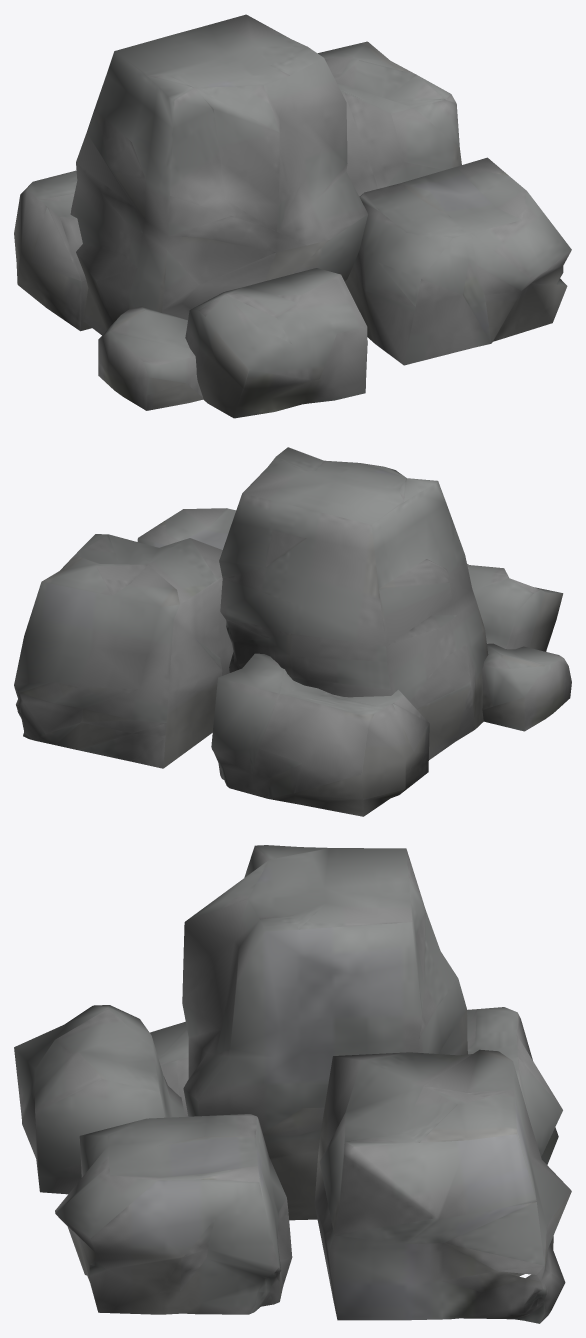
File: rock.glb
3 views of the same model, one above another, from view 1: azimuth 30°, elevation 25°; view 2: azimuth 150°, elevation 25°; view 3: azimuth 270°, elevation 25° (orthographic). The views are drawn at different scales.
Visible parts, largest first — view 1: tripo_node_0950d814-42a3-466a-9ab0-7947a6c004d4; view 2: tripo_node_0950d814-42a3-466a-9ab0-7947a6c004d4; view 3: tripo_node_0950d814-42a3-466a-9ab0-7947a6c004d4.
Part boxes in pixels (x1,y1,x2,y2): tripo_node_0950d814-42a3-466a-9ab0-7947a6c004d4: (14, 14, 571, 418); tripo_node_0950d814-42a3-466a-9ab0-7947a6c004d4: (14, 447, 571, 816); tripo_node_0950d814-42a3-466a-9ab0-7947a6c004d4: (14, 845, 571, 1323).
Size of the model in its own units: 1.71 by 1 by 1.65.
1 material, 1 textured.
